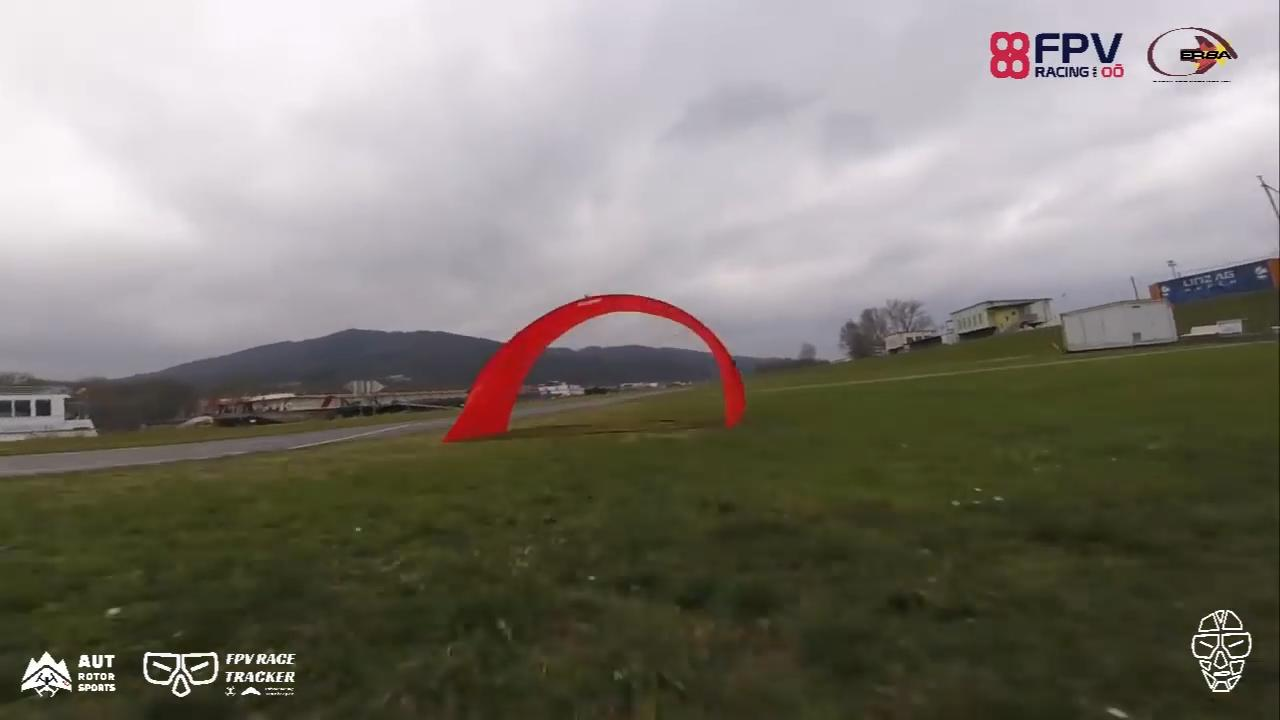gate: (442, 292, 751, 448)
